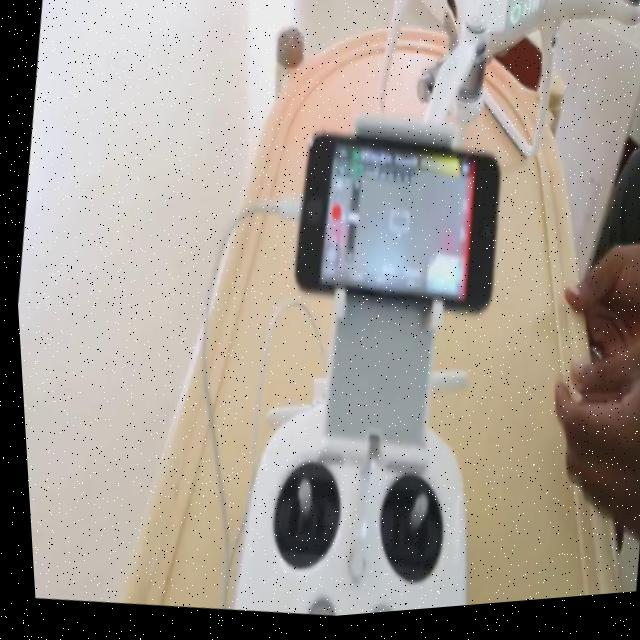drones: (208, 0, 640, 267)
